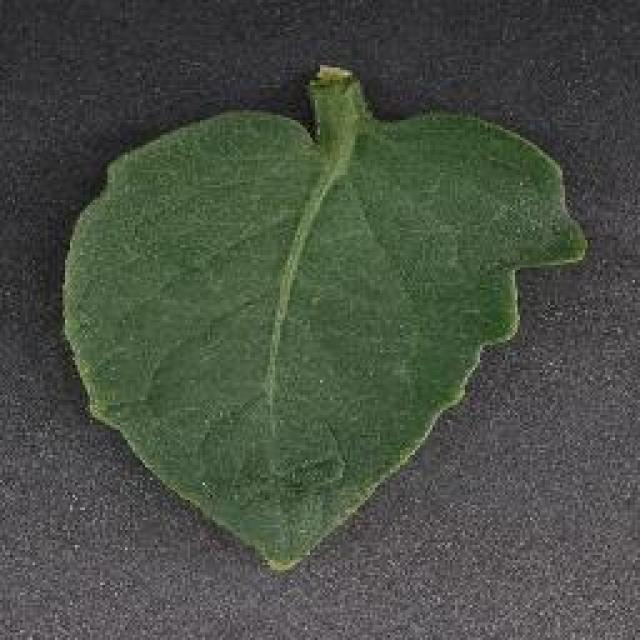Tomato___healthy: (65, 70, 589, 572)
